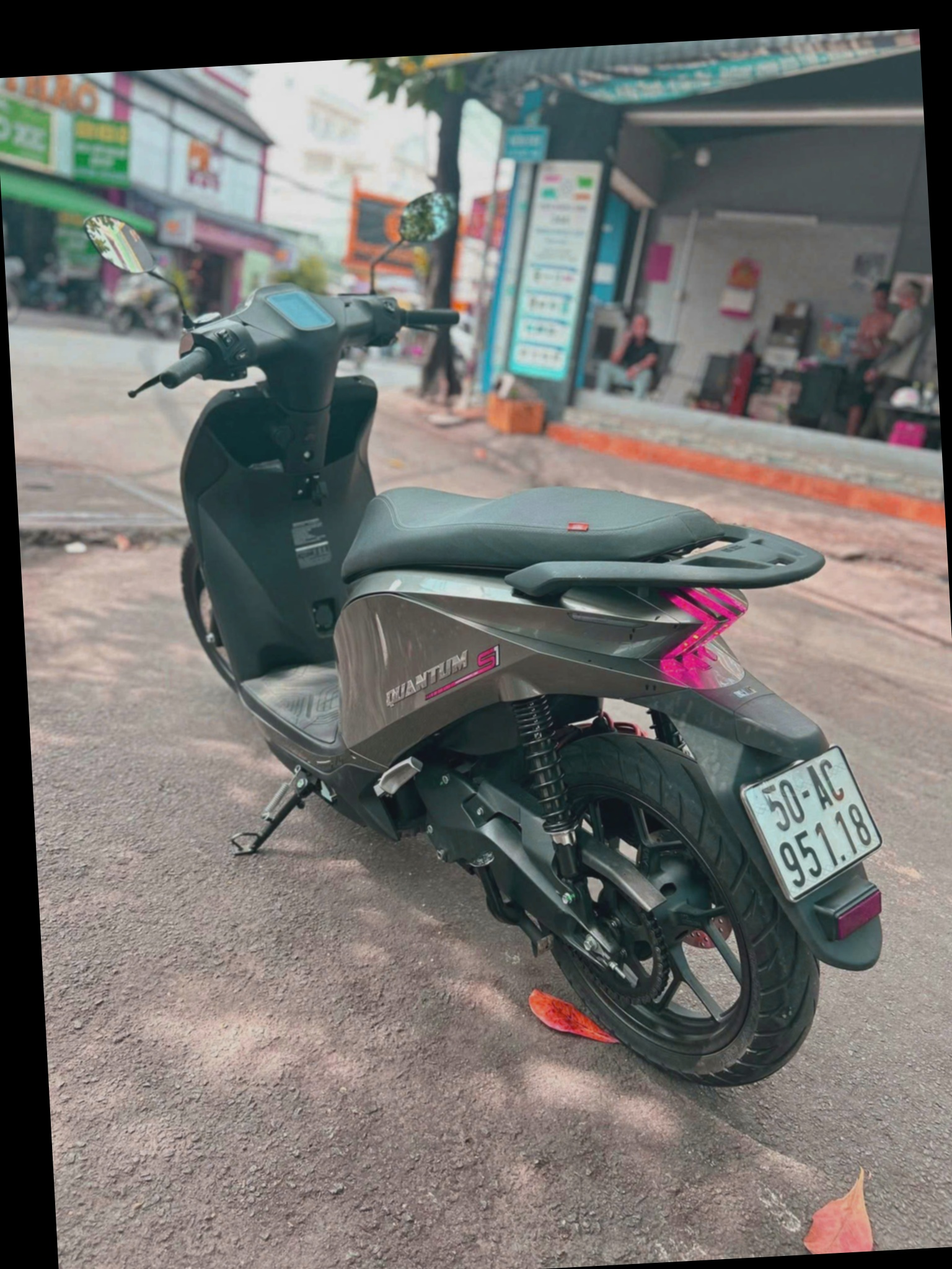Bien-so: (673, 745, 822, 926)
